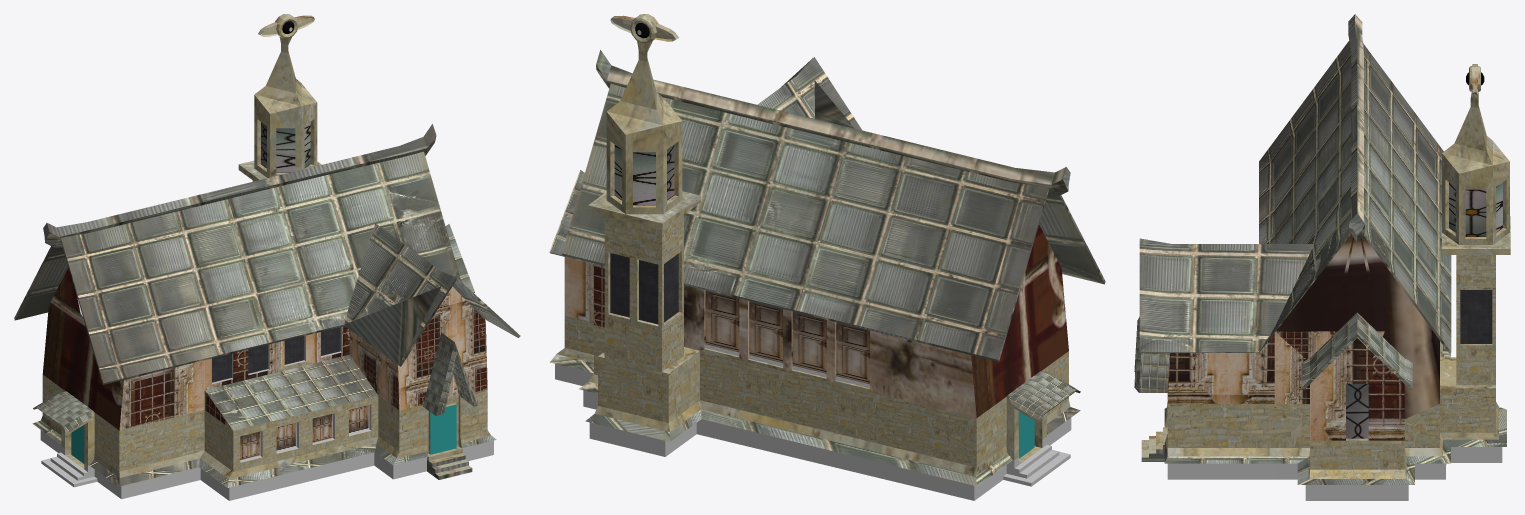
Rendered from church.fbx.
3 views of the same model, side by side, from view 1: azimuth 30°, elevation 25°; view 2: azimuth 150°, elevation 25°; view 3: azimuth 270°, elevation 25° (orthographic). The views are drawn at different scales.
Parts seen in each view (by area): view 1: Torus.002; view 2: Torus.002; view 3: Torus.002.
Part boxes in pixels (x1,y1,x2,y2): Torus.002: (14, 14, 520, 500); Torus.002: (549, 14, 1105, 500); Torus.002: (1134, 14, 1510, 500).
Bounding box in the file's own units: 348 × 288 × 259.
